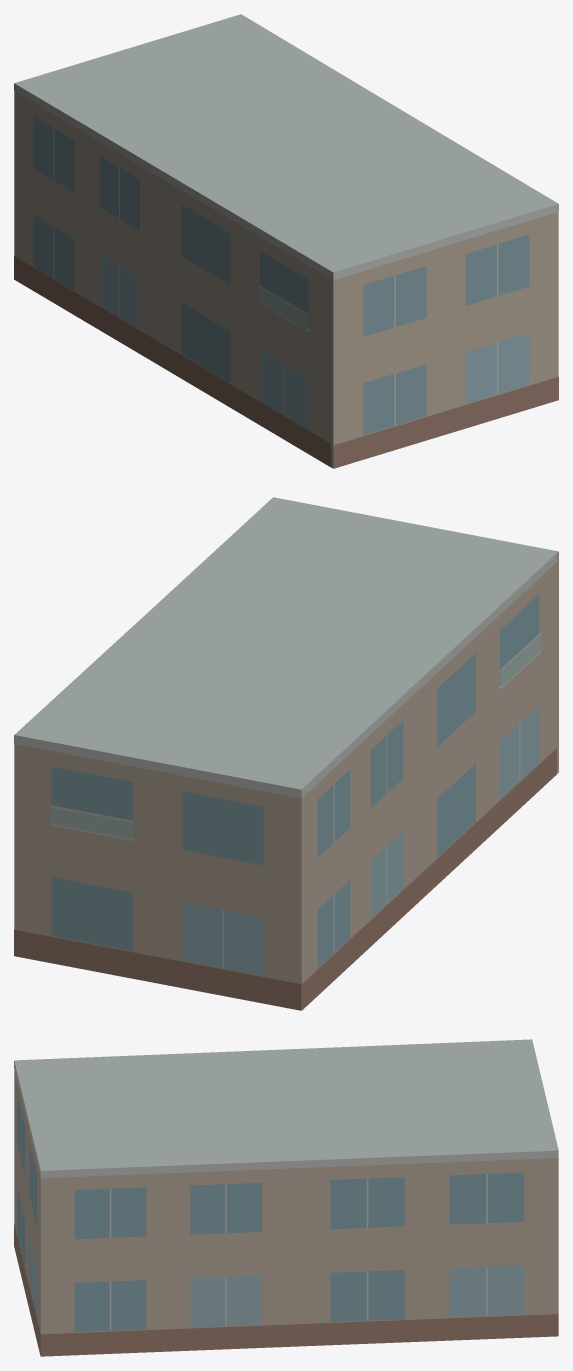
The model's file is survey-upis-32612427.glb.
3 views of the same model, one above another, from view 1: azimuth 30°, elevation 25°; view 2: azimuth 150°, elevation 25°; view 3: azimuth 270°, elevation 25° (orthographic). The views are drawn at different scales.
Parts seen in each view (by area): view 1: survey-upis-32612427.tmp; view 2: survey-upis-32612427.tmp; view 3: survey-upis-32612427.tmp.
Boxes of the visible parts, x1,y1,x2,y2 form: survey-upis-32612427.tmp: (14,14,558,468); survey-upis-32612427.tmp: (14,497,558,1010); survey-upis-32612427.tmp: (14,1039,558,1356).
Bounding box in the file's own units: 9.28 × 6.1 × 16.23.
